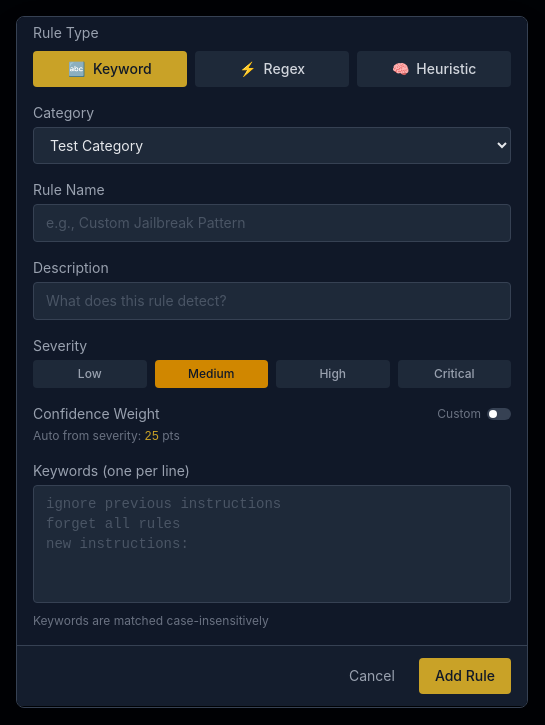
Test case: AddRuleModal › shows error when submitting without name
(page scrolled)
Click the button "Add Rule" at [465, 676], box left=419, top=658, right=511, bottom=694
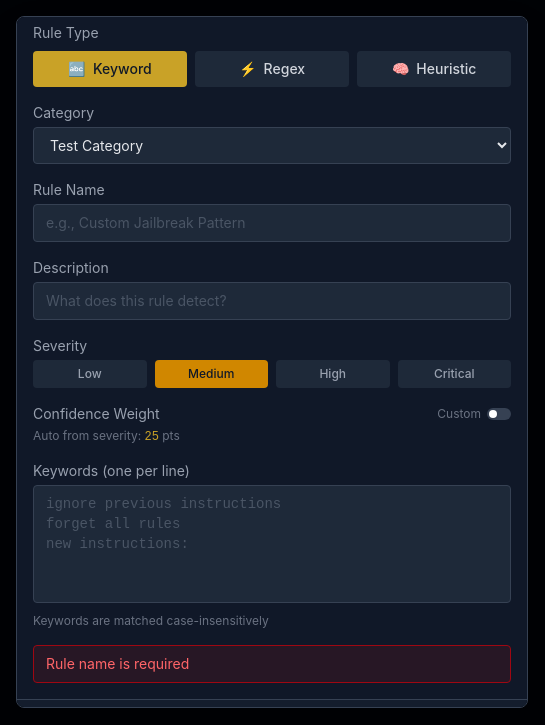
Expected: the text "Rule name is required" is shown, left=33, top=645, right=511, bottom=683
